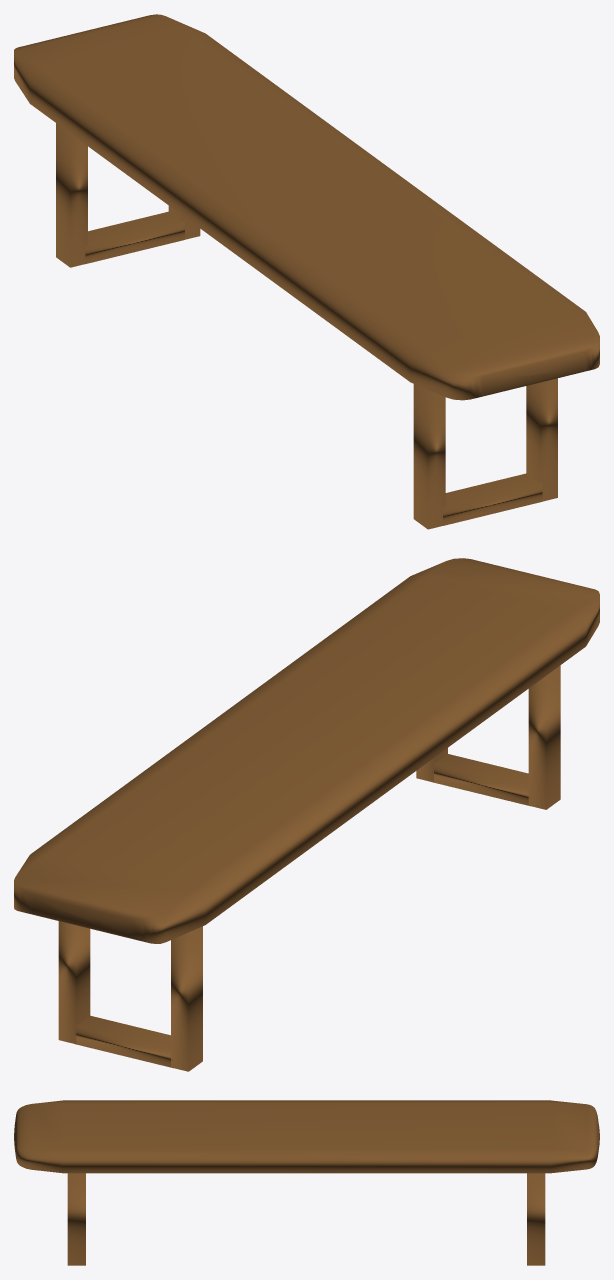
The model's file is bank.fbx.
The picture shows the model from 3 angles, top to bottom: view 1: azimuth 30°, elevation 25°; view 2: azimuth 150°, elevation 25°; view 3: azimuth 270°, elevation 25°; orthographic projection. The views are drawn at different scales.
Parts seen in each view (by area): view 1: Bank; view 2: Bank; view 3: Bank.
Boxes of the visible parts, box(x1,y1,x2,y2) form: Bank: box(14, 14, 599, 529); Bank: box(14, 558, 599, 1071); Bank: box(14, 1100, 599, 1265).
Size of the model in its own units: 200 by 202 by 900.
